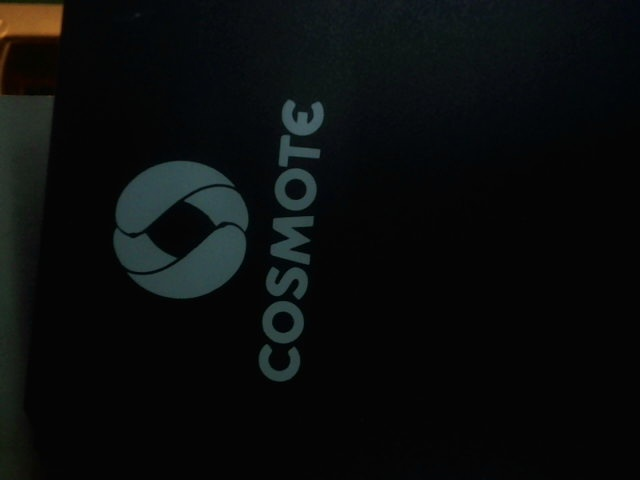AU_COSMOTE: (107, 85, 343, 381)
